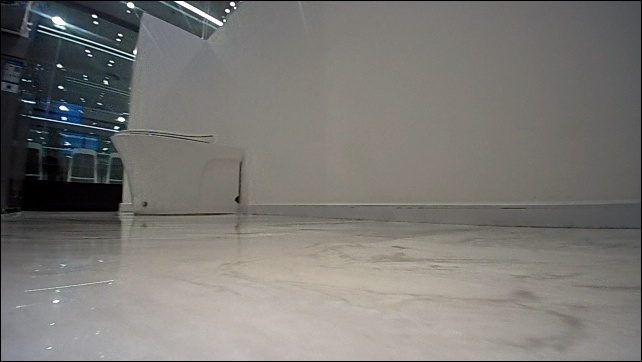toilet: (111, 125, 243, 214)
